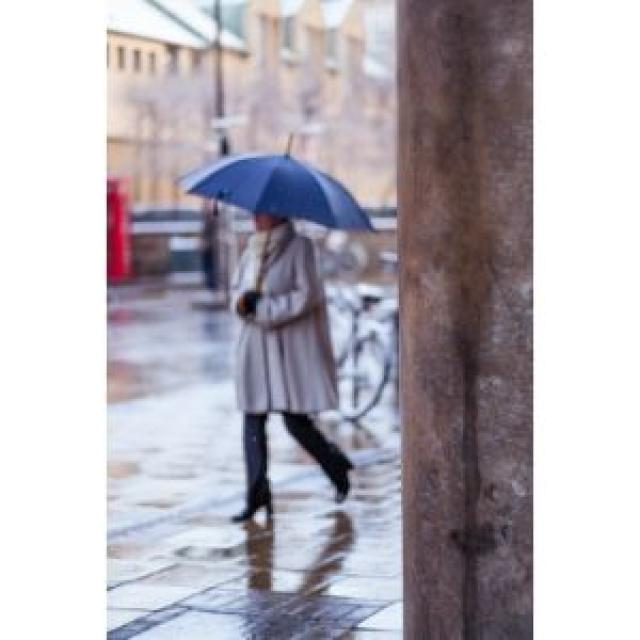nonfall: (205, 154, 361, 564)
